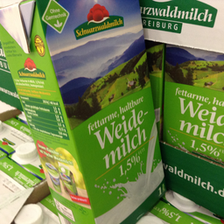milk: (1, 1, 169, 223)
